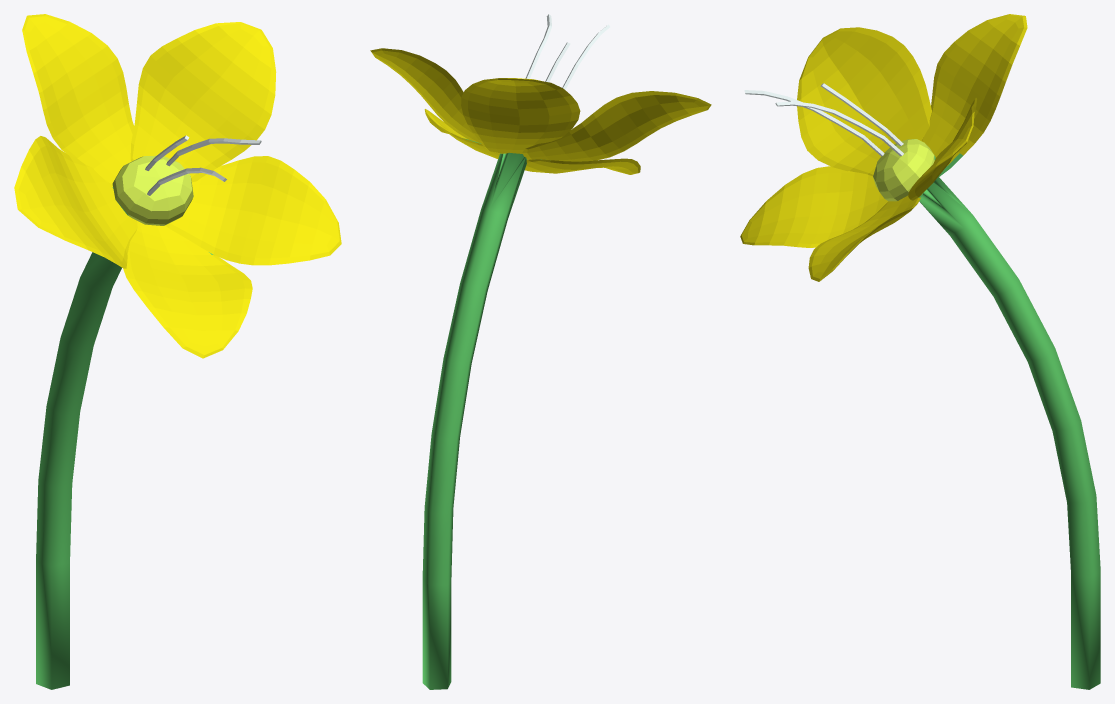
File: bunga.glb
3 renders of one model, left to right at view 1: azimuth 30°, elevation 25°; view 2: azimuth 150°, elevation 25°; view 3: azimuth 270°, elevation 25°, orthographic. The views are drawn at different scales.
Parts seen in each view (by area): view 1: Batang; view 2: Batang; view 3: Batang.
Boxes of the visible parts, box(x1,y1,x2,y2) form: Batang: box(14, 14, 341, 689); Batang: box(370, 14, 711, 689); Batang: box(740, 14, 1100, 689).
Bounding box in the file's own units: 0.2096 × 0.4321 × 0.2202.
